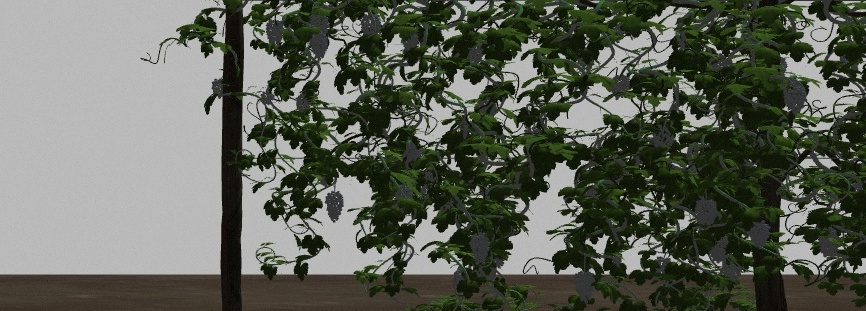grape: (782, 79, 807, 115), (818, 226, 842, 259), (572, 271, 597, 302), (693, 198, 717, 228), (469, 233, 491, 264), (749, 219, 771, 250), (324, 191, 344, 225), (708, 234, 729, 264), (360, 13, 381, 39), (723, 254, 742, 282), (309, 7, 329, 33), (266, 20, 284, 47), (310, 33, 328, 60), (610, 75, 629, 100), (295, 91, 312, 114), (211, 78, 223, 100)
